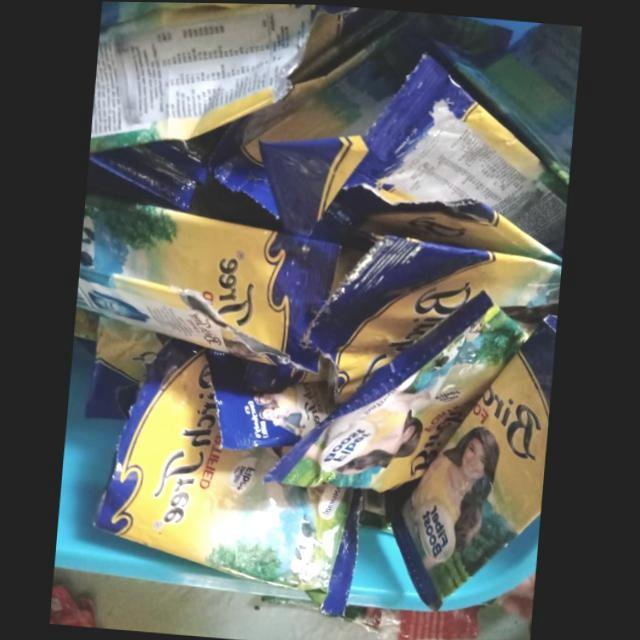plastic_sachet: (94, 337, 364, 614), (211, 11, 567, 221), (262, 286, 529, 490), (387, 310, 558, 605), (77, 193, 342, 374), (259, 136, 562, 293), (344, 53, 569, 256), (306, 234, 562, 402), (92, 1, 356, 152), (437, 21, 582, 179), (88, 315, 171, 419)
